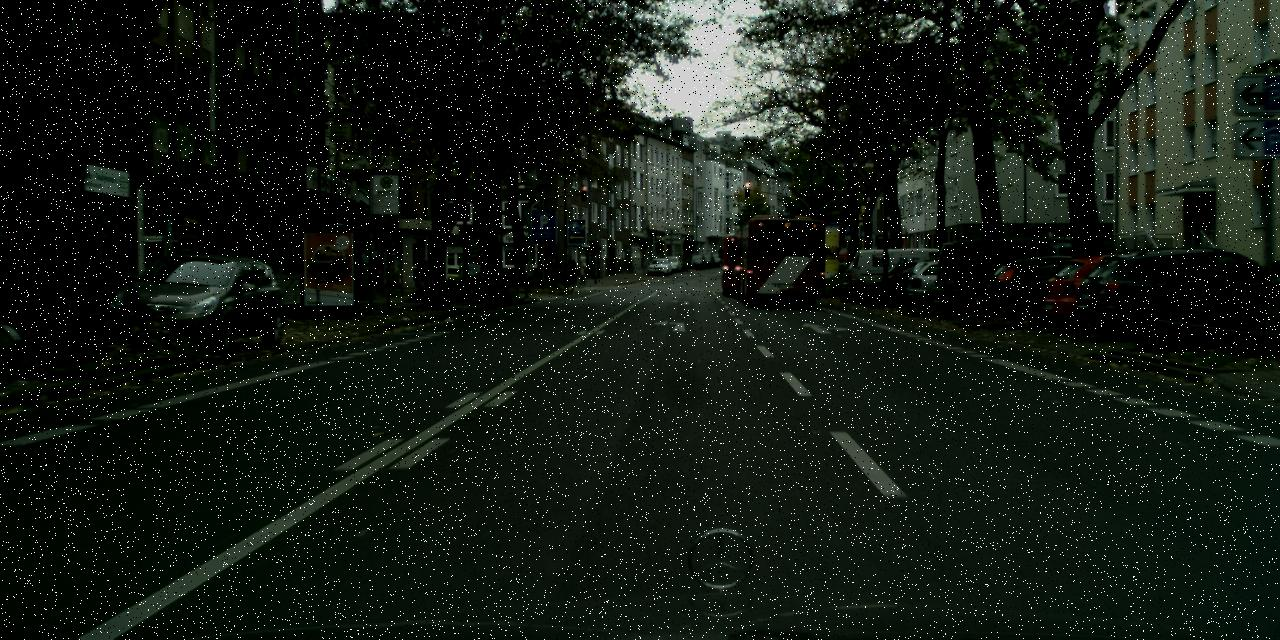ped: (413, 252, 432, 300), (566, 256, 576, 281), (546, 259, 556, 284), (576, 258, 584, 280), (624, 254, 632, 274), (561, 261, 568, 281)
